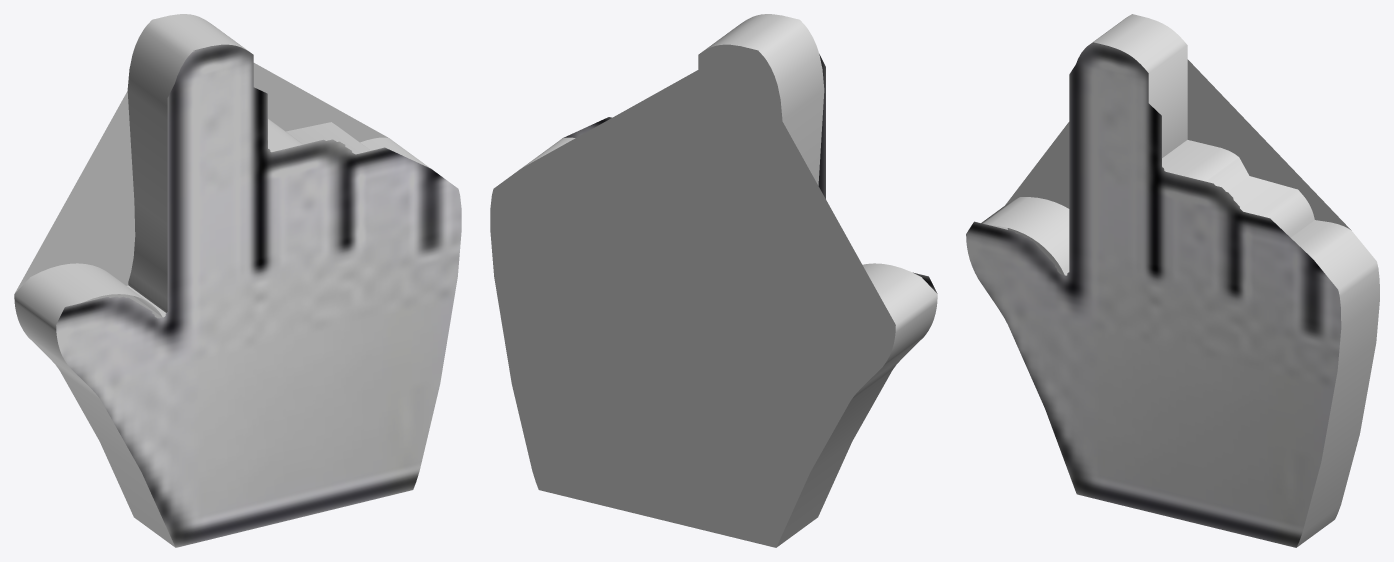
File: cursor1.fbx
3 renders of one model, left to right at view 1: azimuth 30°, elevation 25°; view 2: azimuth 150°, elevation 25°; view 3: azimuth 330°, elevation 25°, orthographic. The views are drawn at different scales.
Parts seen in each view (by area): view 1: Cap_1, Extrude, Cap_2; view 2: Cap_2, Extrude, Cap_1; view 3: Cap_1, Extrude, Cap_2.
Boxes of the visible parts, x1,y1,x2,y2 form: Cap_1: [56, 44, 461, 547]; Extrude: [14, 14, 429, 547]; Cap_2: [15, 50, 388, 318]; Cap_2: [490, 44, 895, 547]; Extrude: [522, 14, 937, 547]; Cap_1: [563, 54, 937, 293]; Cap_1: [966, 42, 1341, 547]; Extrude: [981, 14, 1379, 547]; Cap_2: [1005, 59, 1351, 275].
Size of the model in its own units: 224 by 260 by 40.
2 materials, 1 textured.
